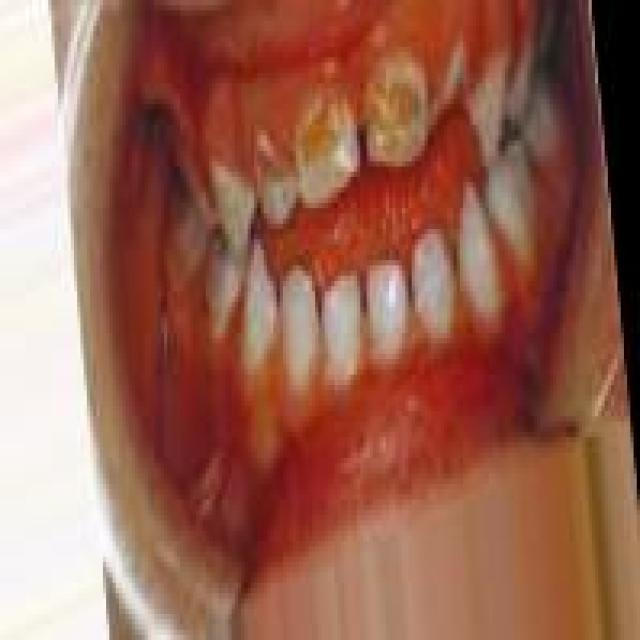caries: (356, 42, 434, 172), (290, 85, 360, 206), (250, 121, 300, 228)
